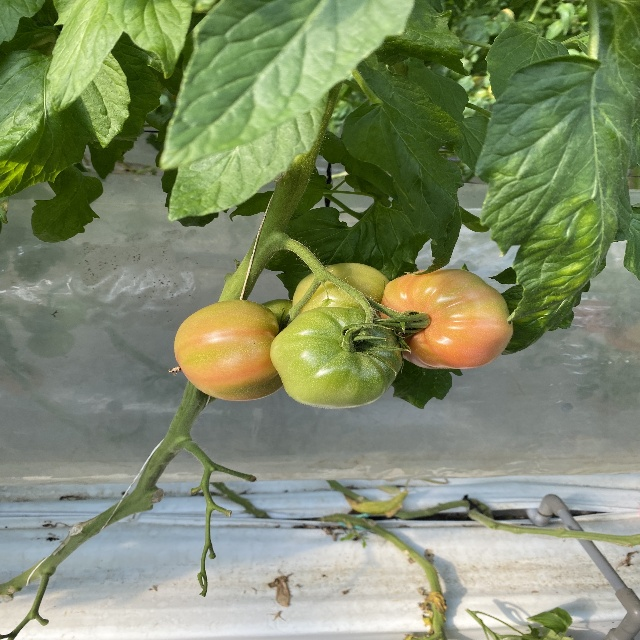b_green: (269, 306, 402, 408), (293, 263, 390, 318), (262, 299, 294, 334)
b_half_ripened: (379, 269, 514, 370), (174, 299, 283, 402)
